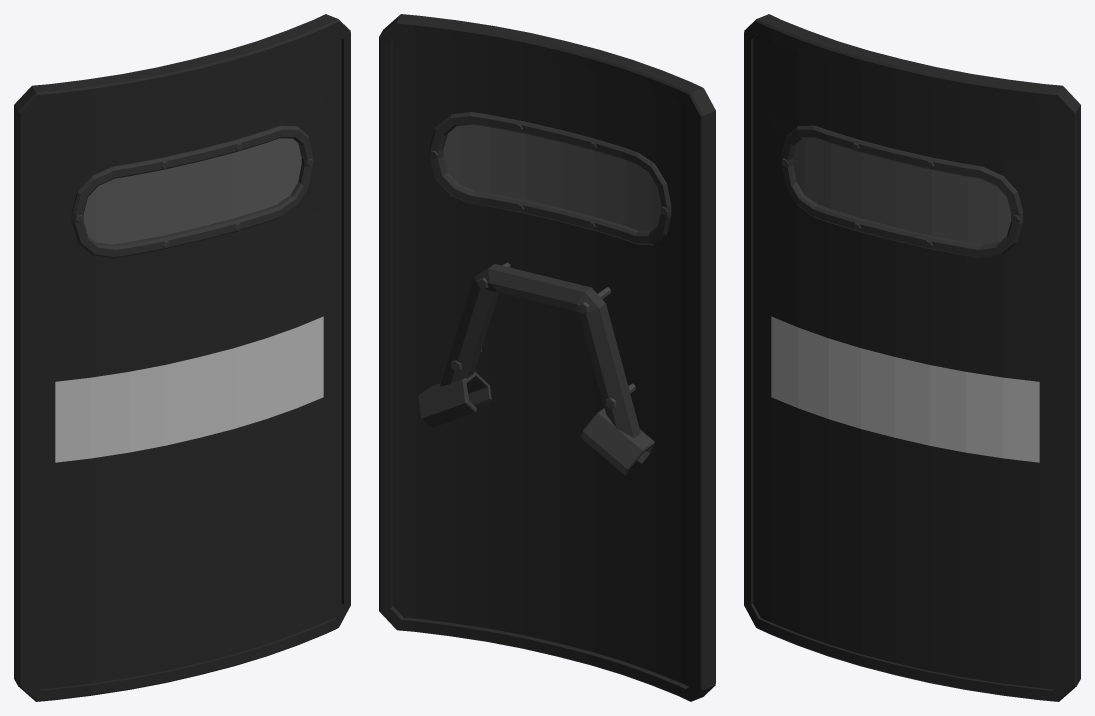
The model's file is Ballistic Shield_A.fbx.
3 renders of one model, left to right at view 1: azimuth 30°, elevation 25°; view 2: azimuth 150°, elevation 25°; view 3: azimuth 330°, elevation 25°, orthographic.
Parts seen in each view (by area): view 1: Ballistic Shield_A, Ballistic Shield_A_Lens; view 2: Ballistic Shield_A, Ballistic Shield_A_Lens; view 3: Ballistic Shield_A, Ballistic Shield_A_Lens.
Part boxes in pixels (x1=…): Ballistic Shield_A: x1=14, y1=14, x2=350, y2=701; Ballistic Shield_A_Lens: x1=83, y1=138, x2=301, y2=244; Ballistic Shield_A: x1=379, y1=14, x2=715, y2=701; Ballistic Shield_A_Lens: x1=443, y1=124, x2=660, y2=230; Ballistic Shield_A: x1=744, y1=14, x2=1080, y2=701; Ballistic Shield_A_Lens: x1=793, y1=138, x2=1011, y2=244.
Bounding box in the file's own units: 0.6928 × 1.21 × 0.146.
